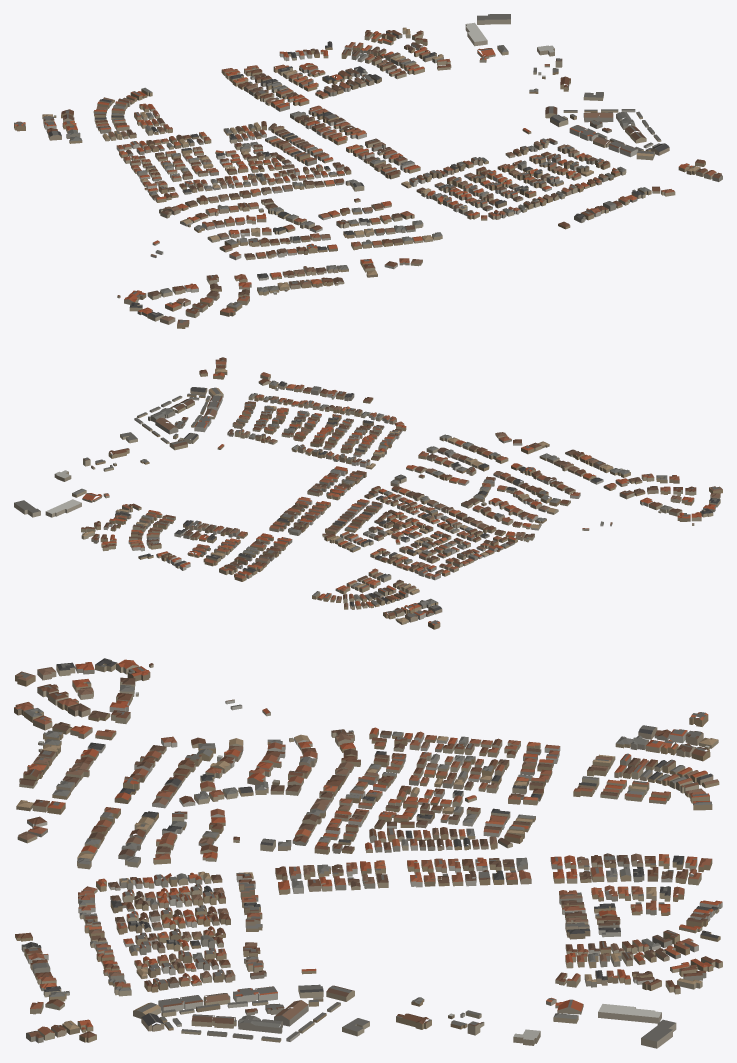
3 views of the same model, one above another, from view 1: azimuth 30°, elevation 25°; view 2: azimuth 150°, elevation 25°; view 3: azimuth 270°, elevation 25° (orthographic). The views are drawn at different scales.
Visible parts, largest first — view 1: buildings_r4_c4_lod1; view 2: buildings_r4_c4_lod1; view 3: buildings_r4_c4_lod1.
Part boxes in pixels (bbox=[...]): buildings_r4_c4_lod1: bbox=[14, 14, 722, 328]; buildings_r4_c4_lod1: bbox=[14, 357, 722, 629]; buildings_r4_c4_lod1: bbox=[14, 658, 722, 1048].
Size of the model in its own units: 1084 by 38.96 by 810.
